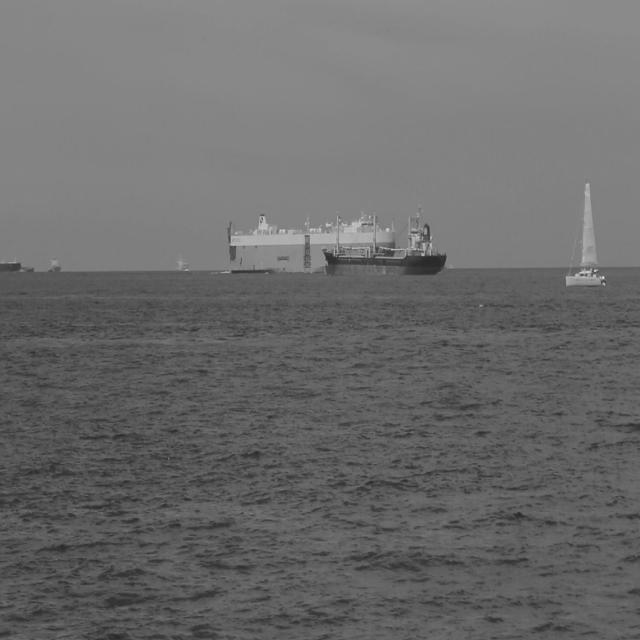ship: (226, 208, 396, 276), (320, 200, 448, 278), (564, 178, 607, 288), (0, 256, 22, 274), (48, 252, 62, 274), (20, 263, 35, 274)
